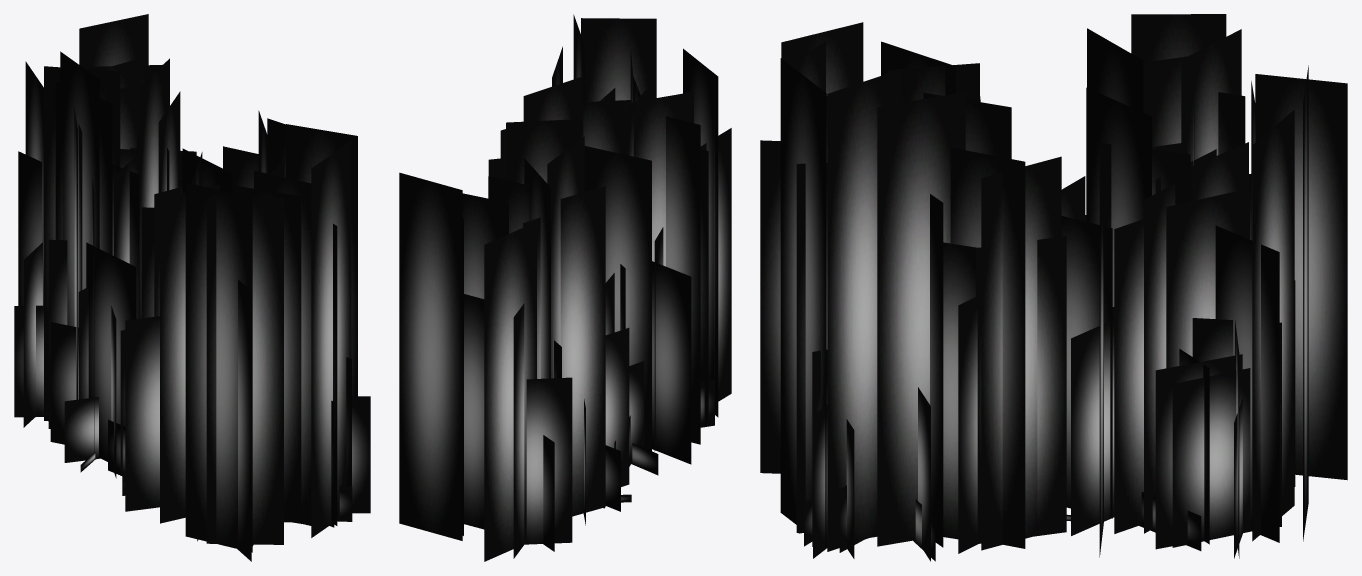
The model's file is vfx_kurp_1201.dae.
3 views of the same model, side by side, from view 1: azimuth 30°, elevation 25°; view 2: azimuth 150°, elevation 25°; view 3: azimuth 270°, elevation 25° (orthographic). The views are drawn at different scales.
Parts seen in each view (by area): view 1: vfx_kurp_1201; view 2: vfx_kurp_1201; view 3: vfx_kurp_1201.
Part boxes in pixels (bbox=[...]): vfx_kurp_1201: bbox=[14, 14, 370, 561]; vfx_kurp_1201: bbox=[399, 14, 731, 561]; vfx_kurp_1201: bbox=[760, 14, 1347, 561].
Size of the model in its own units: 4.52 by 9.93 by 8.62.
1 material, 1 textured.
